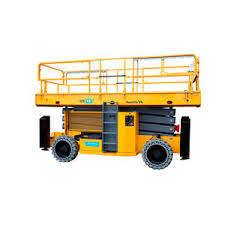Scissor Lift: (34, 53, 202, 170)
